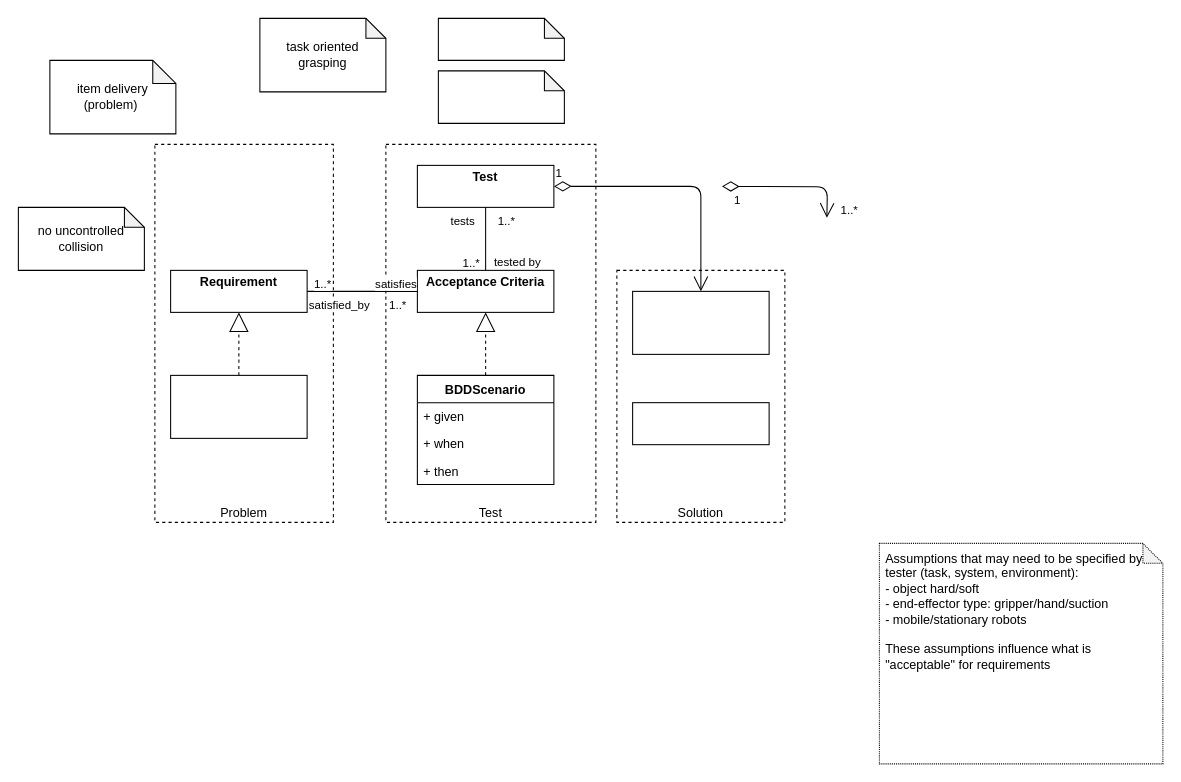
Some shapes in this 1181 by 782 pixel diagram are drawn without their labels. The centre of each missing label's shape, as x and y in pixels:
correct orientation: the point at 500,96
correct position: the point at 500,38
Feature: the point at 700,423
System: the point at 700,322
UserStory: the point at 238,406
